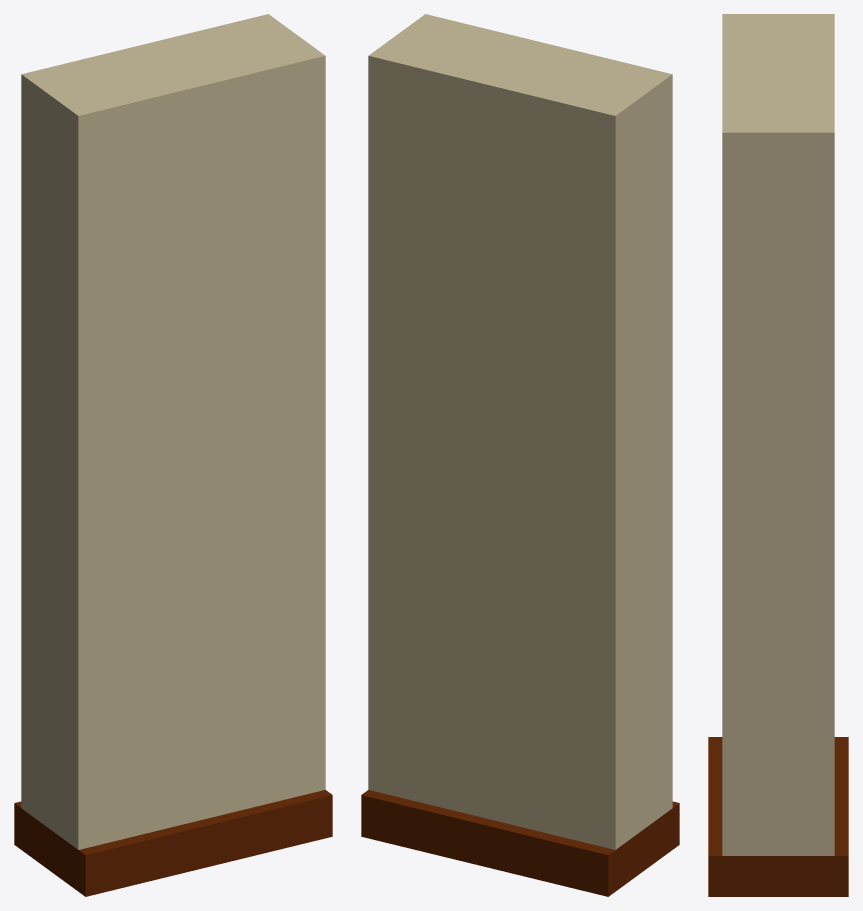
The model's file is Mesh_Wall_Standar.fbx.
3 views of the same model, side by side, from view 1: azimuth 30°, elevation 25°; view 2: azimuth 150°, elevation 25°; view 3: azimuth 270°, elevation 25° (orthographic).
Parts seen in each view (by area): view 1: Wall_Normal; view 2: Wall_Normal; view 3: Wall_Normal.
Boxes of the visible parts, left/top/right/bottom form: Wall_Normal: left=14, top=14, right=332, bottom=896; Wall_Normal: left=361, top=14, right=679, bottom=896; Wall_Normal: left=708, top=14, right=848, bottom=896.
Size of the model in its own units: 20 by 60 by 10.
